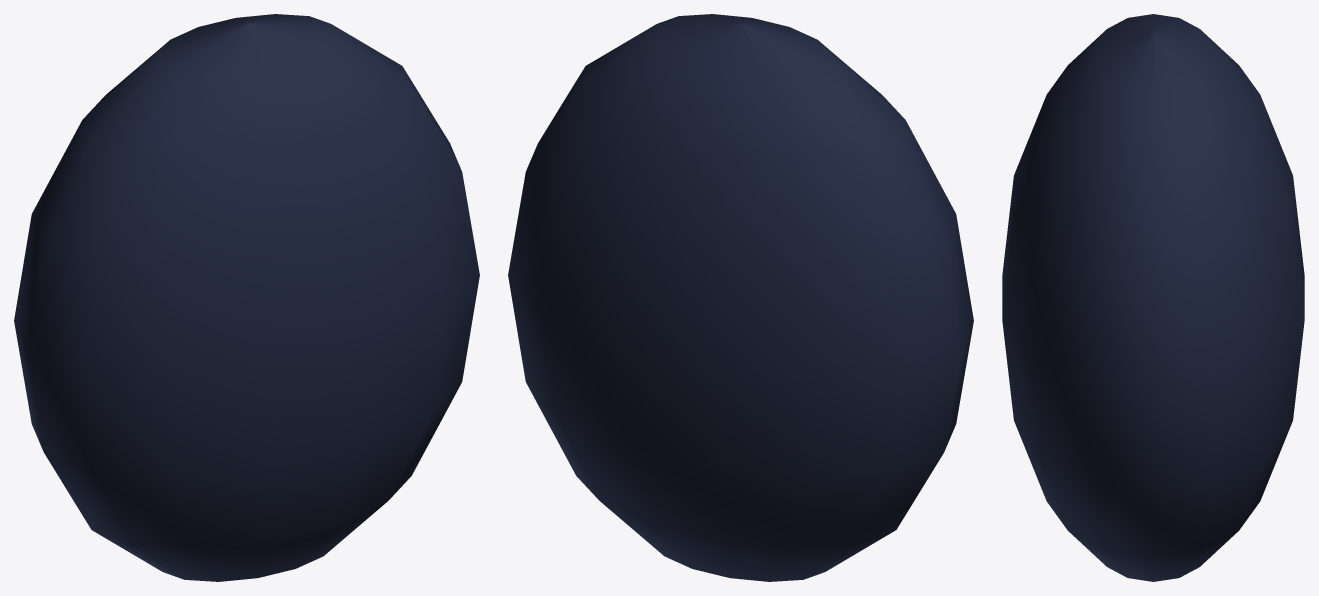
Rendered from spine.obj.
3 views of the same model, side by side, from view 1: azimuth 30°, elevation 25°; view 2: azimuth 150°, elevation 25°; view 3: azimuth 270°, elevation 25° (orthographic). The views are drawn at different scales.
Parts seen in each view (by area): view 1: spine; view 2: spine; view 3: spine.
Part boxes in pixels (x1,y1,x2,y2): spine: (14, 14, 479, 581); spine: (508, 14, 973, 581); spine: (1002, 14, 1304, 581).
Size of the model in its own units: 0.2736 by 0.3264 by 0.1689.
